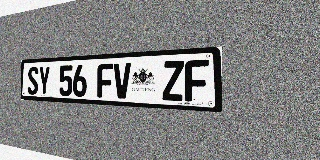5: (59, 65, 73, 96)
6: (73, 65, 87, 97)
F: (185, 59, 209, 102), (97, 63, 113, 98)
S: (28, 67, 38, 95)
V: (114, 63, 131, 99)
Y: (38, 66, 50, 95)
Z: (162, 60, 184, 101)
